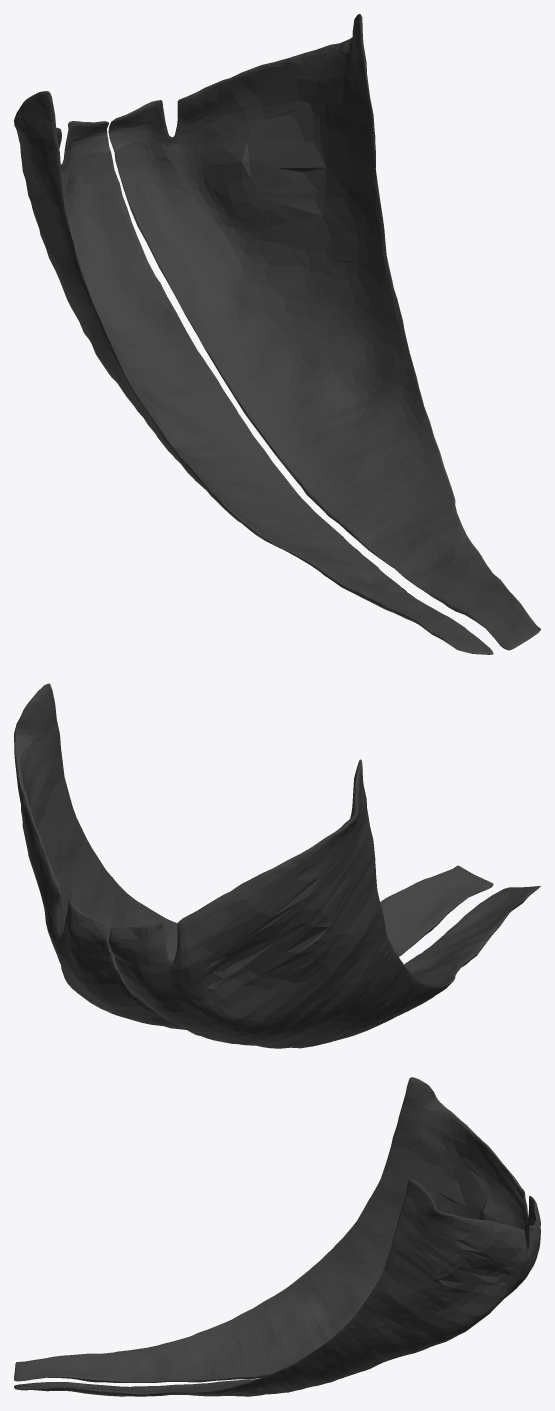
File: aponeurosis_EAO.glb
3 renders of one model, top to bottom at view 1: azimuth 30°, elevation 25°; view 2: azimuth 150°, elevation 25°; view 3: azimuth 270°, elevation 25°, orthographic. The views are drawn at different scales.
Parts seen in each view (by area): view 1: aponeurosis_EAO; view 2: aponeurosis_EAO; view 3: aponeurosis_EAO.
Part boxes in pixels (x1=…): aponeurosis_EAO: x1=14, y1=14, x2=540, y2=654; aponeurosis_EAO: x1=14, y1=683, x2=540, y2=1048; aponeurosis_EAO: x1=14, y1=1077, x2=540, y2=1396.
Bounding box in the file's own units: 0.00796 × 0.00861 × 0.0159.
1 material, 1 textured.
